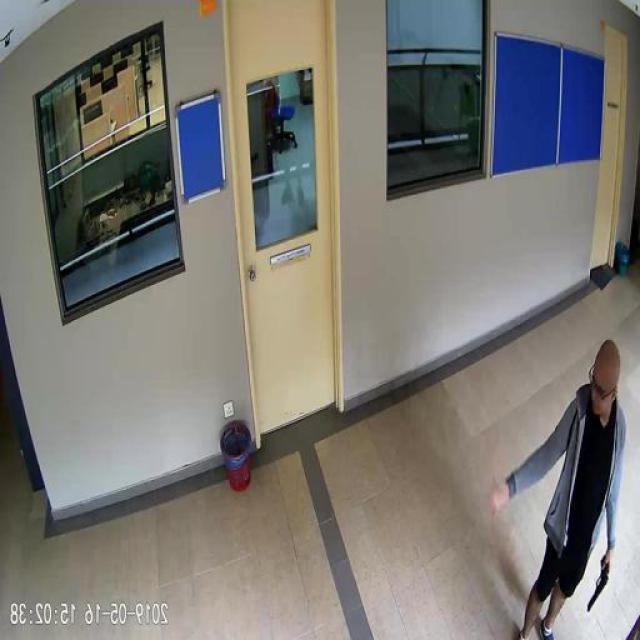weapon: (585, 554, 611, 615)
